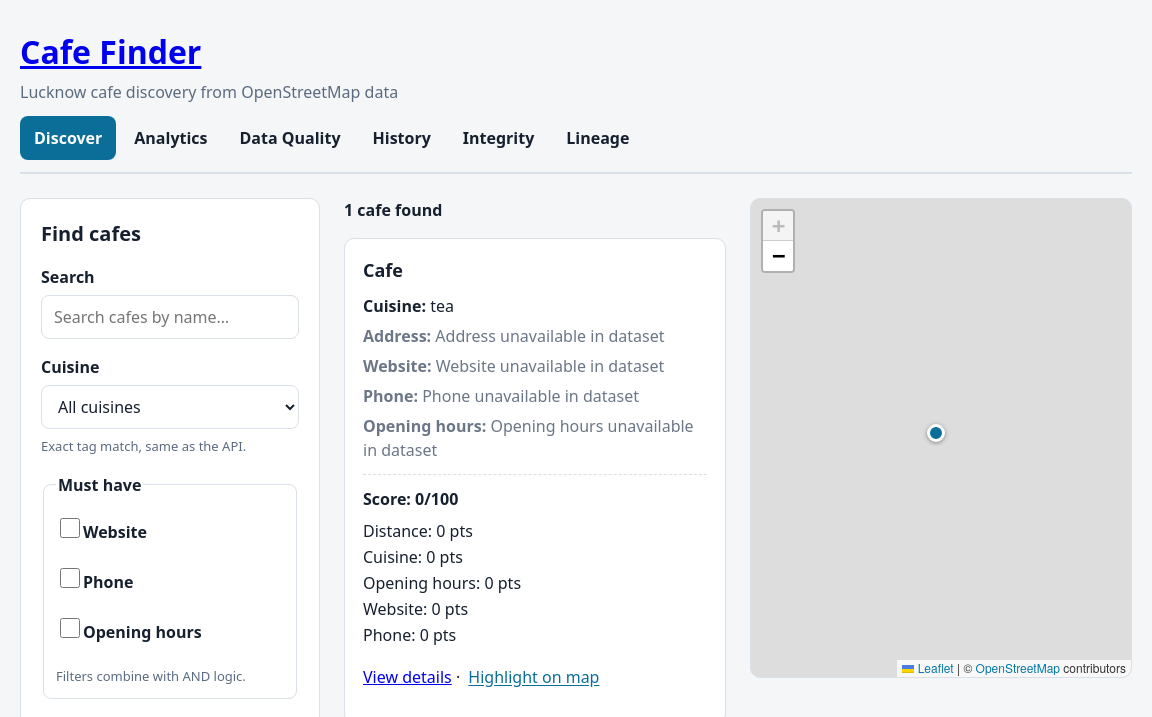
App navigation › moves focus to the main landmark on route change
The width and height of the screenshot is (1152, 717).
Check: the text "1 cafe found" is shown, box [344,199,442,221]
Click the link "Integrity" at [499, 138], box [463,127,534,149]
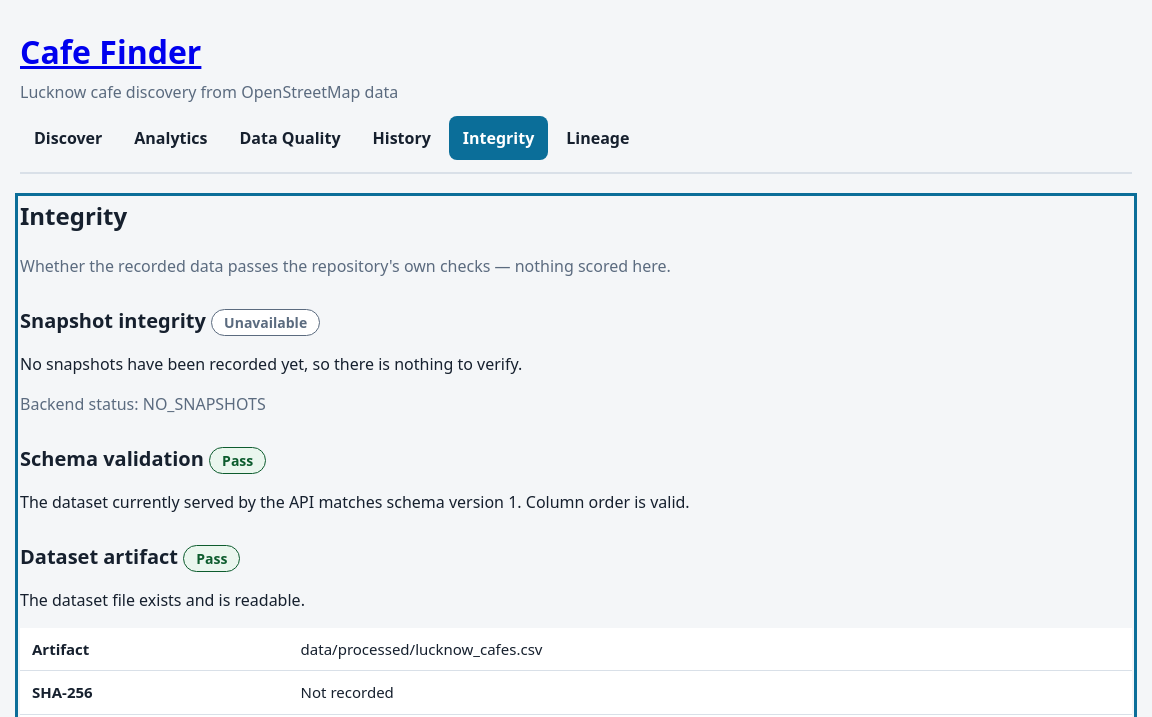
Check: the heading "Integrity" is shown, box [20,199,127,232]
